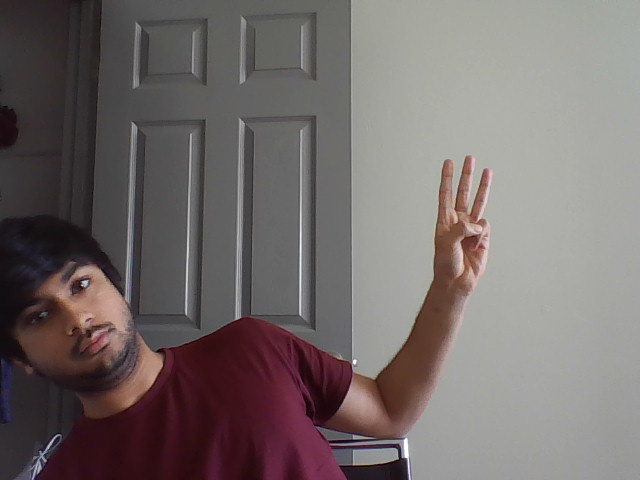three: (423, 142, 501, 230)
